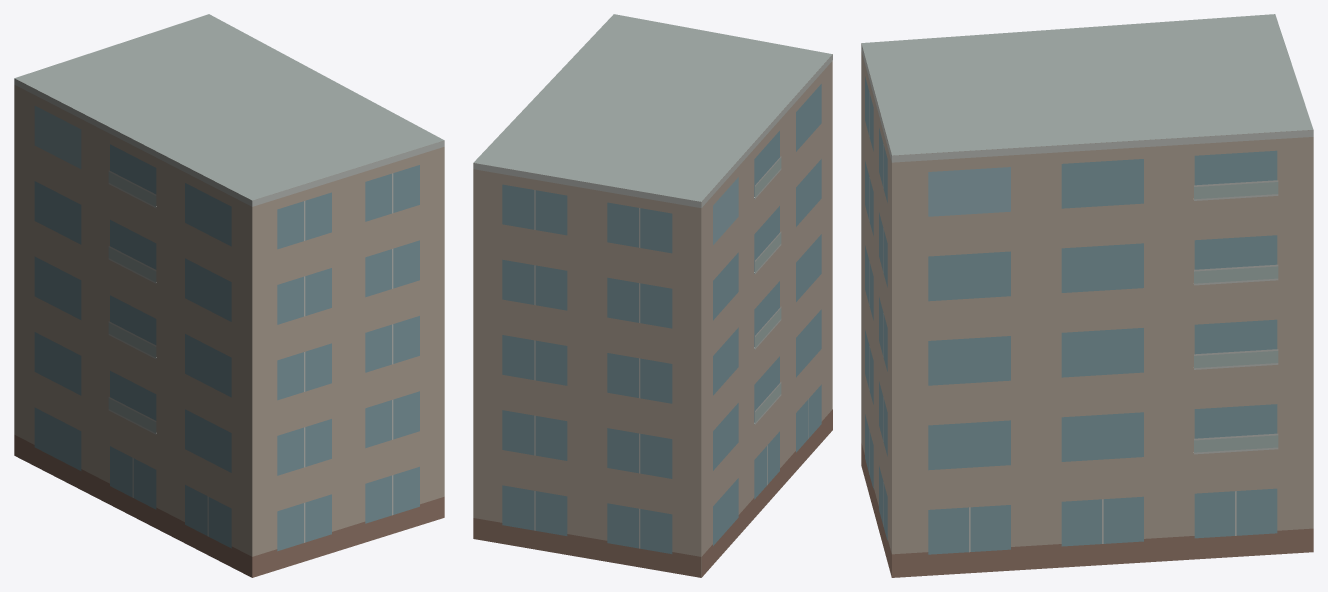
File: survey-upis-32890995.glb
3 views of the same model, side by side, from view 1: azimuth 30°, elevation 25°; view 2: azimuth 150°, elevation 25°; view 3: azimuth 270°, elevation 25° (orthographic). The views are drawn at different scales.
Visible parts, largest first — view 1: survey-upis-32890995.tmp; view 2: survey-upis-32890995.tmp; view 3: survey-upis-32890995.tmp.
Part boxes in pixels (left/top/right/bottom): survey-upis-32890995.tmp: left=14, top=14, right=444, bottom=577; survey-upis-32890995.tmp: left=473, top=14, right=832, bottom=577; survey-upis-32890995.tmp: left=861, top=14, right=1313, bottom=577.
Size of the model in its own units: 10.47 by 14.55 by 14.13.
